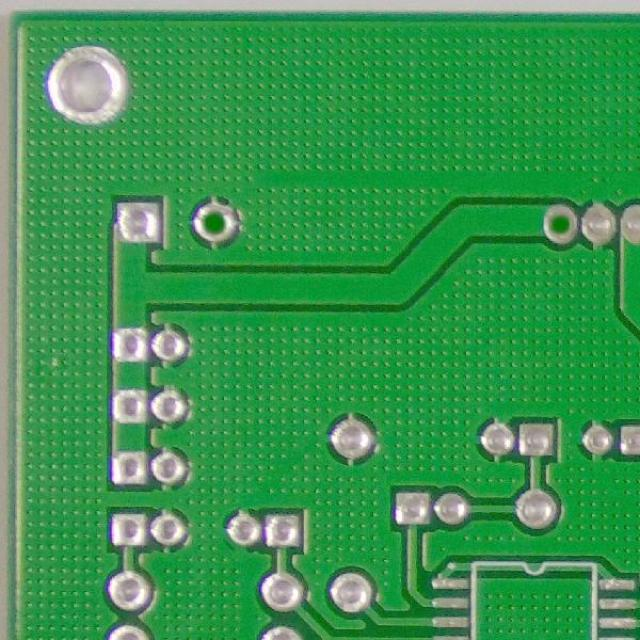Missing_Hole: (189, 198, 242, 246), (538, 200, 581, 247)
